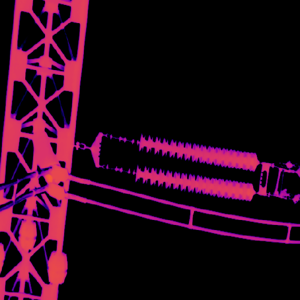insulator: (133, 128, 259, 171), (130, 161, 255, 200)
